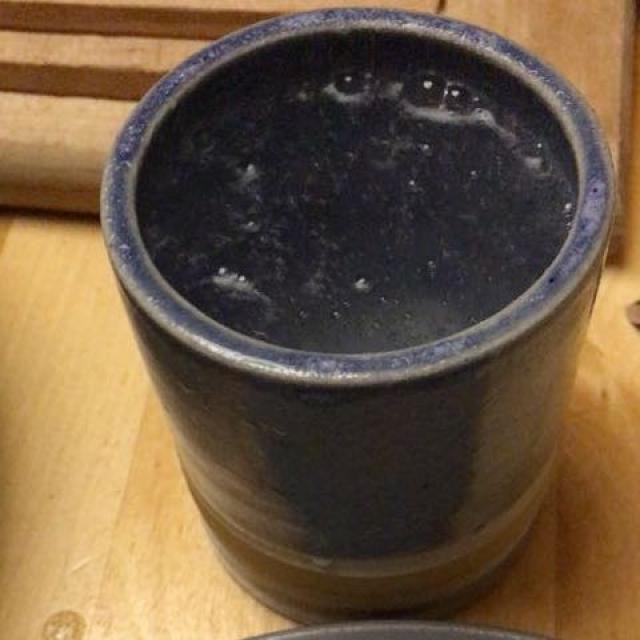water: (134, 49, 573, 362)
